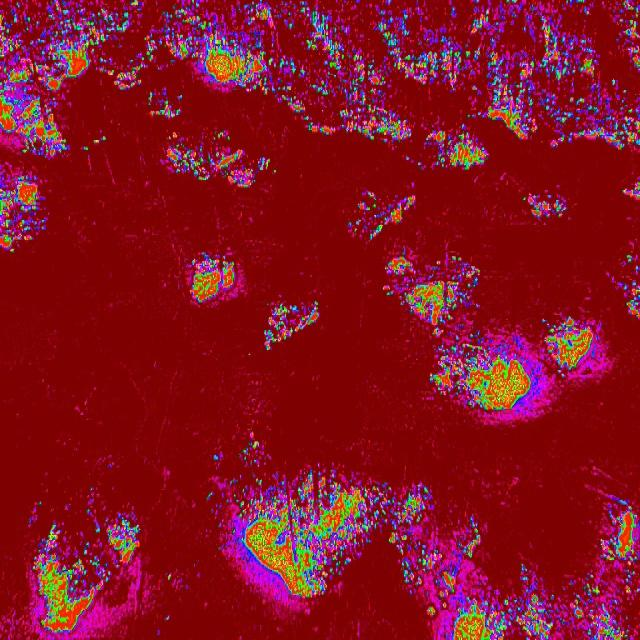fire: (0, 0, 633, 126), (28, 507, 144, 640), (226, 469, 344, 593), (392, 484, 476, 640), (434, 322, 552, 423), (478, 566, 588, 640), (384, 252, 482, 329), (588, 504, 640, 640), (164, 134, 274, 191), (543, 312, 613, 386), (175, 251, 249, 318), (346, 188, 419, 246), (0, 162, 43, 260), (345, 479, 388, 562), (0, 118, 74, 164), (265, 300, 323, 352), (433, 128, 490, 173), (524, 186, 569, 228)
